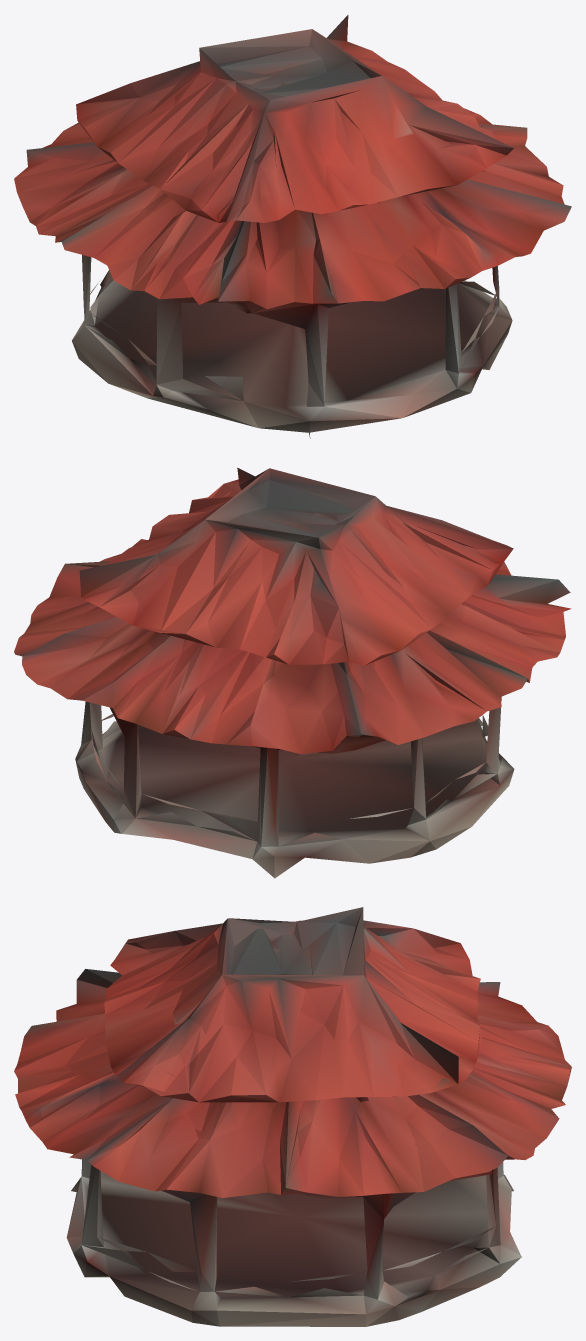
The model's file is lib_garden_pav.vc2.glb.
3 renders of one model, top to bottom at view 1: azimuth 30°, elevation 25°; view 2: azimuth 150°, elevation 25°; view 3: azimuth 270°, elevation 25°, orthographic. The views are drawn at different scales.
Parts seen in each view (by area): view 1: lib_garden_pav; view 2: lib_garden_pav; view 3: lib_garden_pav.
Part boxes in pixels (bbox=[...]): lib_garden_pav: bbox=[14, 15, 571, 438]; lib_garden_pav: bbox=[14, 467, 571, 878]; lib_garden_pav: bbox=[14, 907, 571, 1326].
Bounding box in the file's own units: 1.98 × 1.15 × 1.95.
